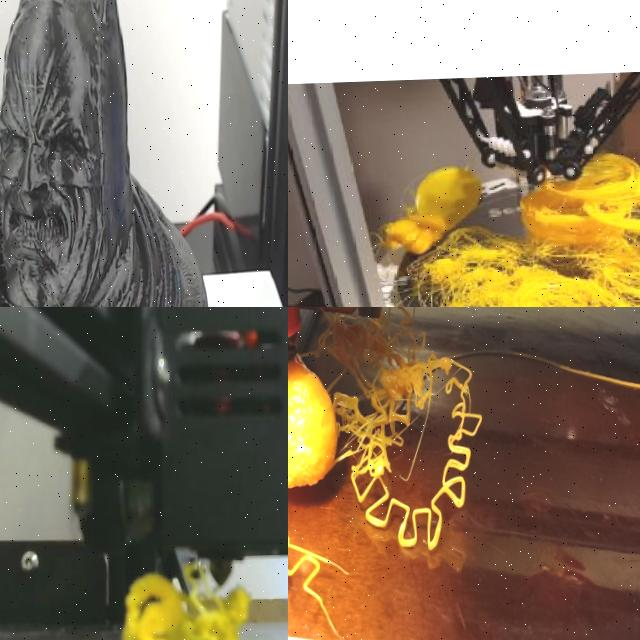spaghetti: (288, 323, 499, 612), (425, 233, 640, 307), (109, 567, 261, 640)
